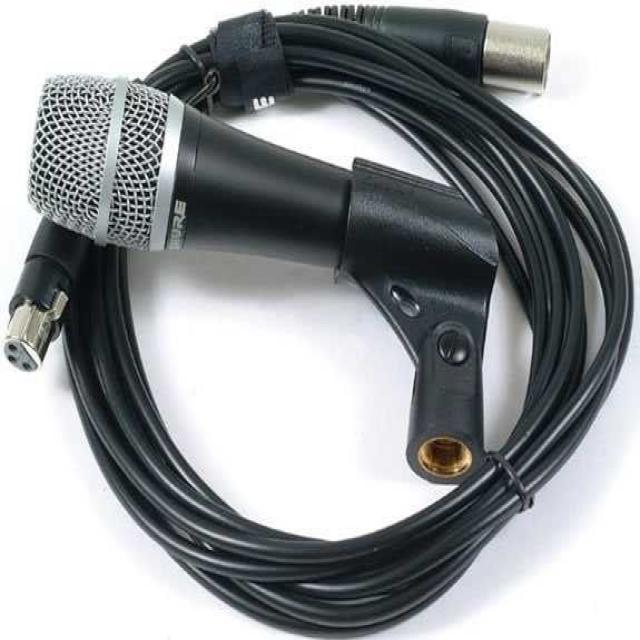microphone: (18, 70, 364, 268)
